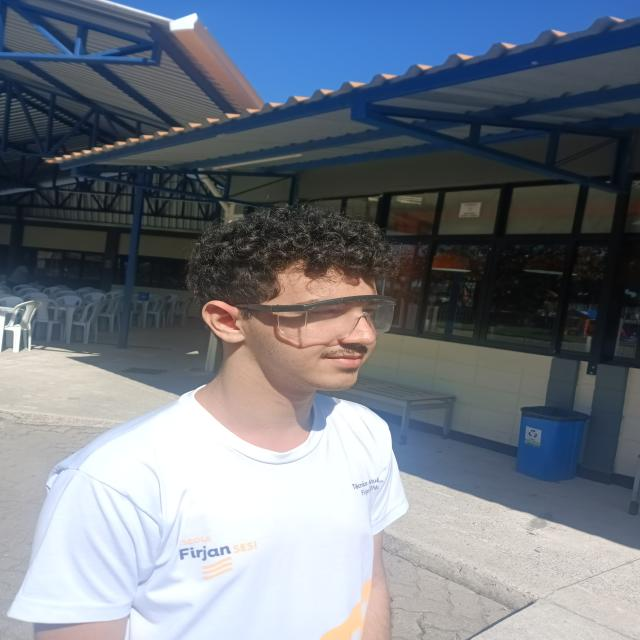oculos-epi: (236, 294, 397, 339)
